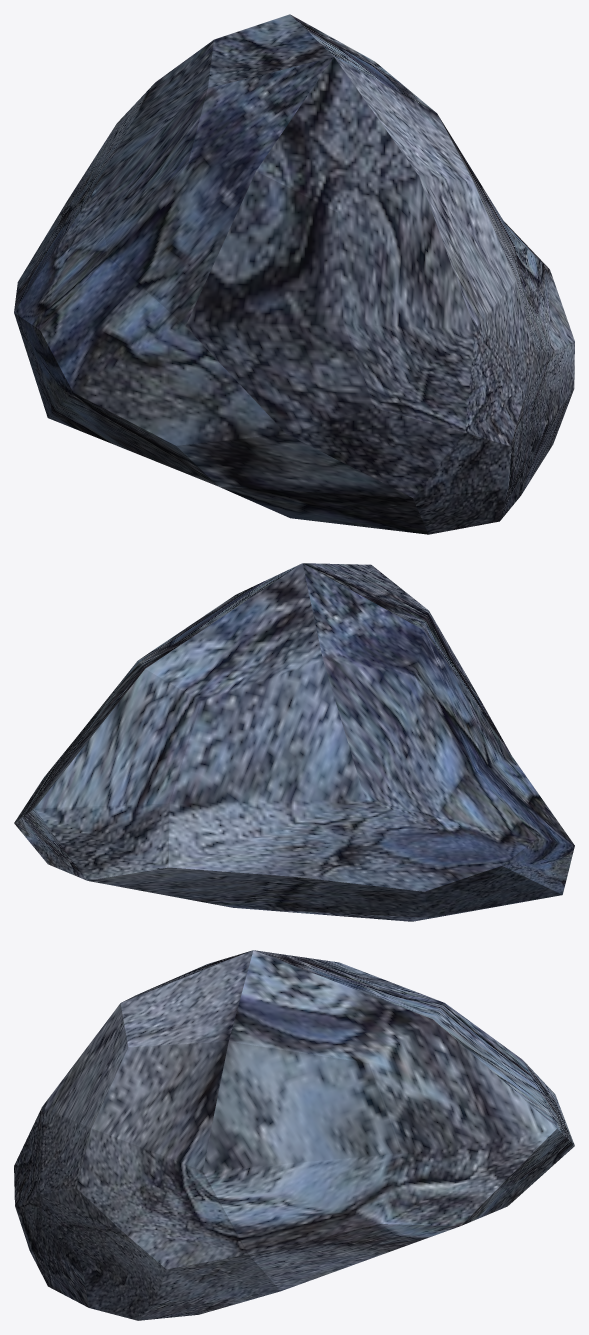
The model's file is rock3.glb.
3 views of the same model, one above another, from view 1: azimuth 30°, elevation 25°; view 2: azimuth 150°, elevation 25°; view 3: azimuth 270°, elevation 25° (orthographic). The views are drawn at different scales.
Visible parts, largest first — view 1: Icosphere; view 2: Icosphere; view 3: Icosphere.
Part boxes in pixels (x1,y1,x2,y2): Icosphere: (14,14,574,534); Icosphere: (14,563,574,921); Icosphere: (14,950,574,1320).
Size of the model in its own units: 3.67 by 2.81 by 4.31.
1 material, 1 textured.
